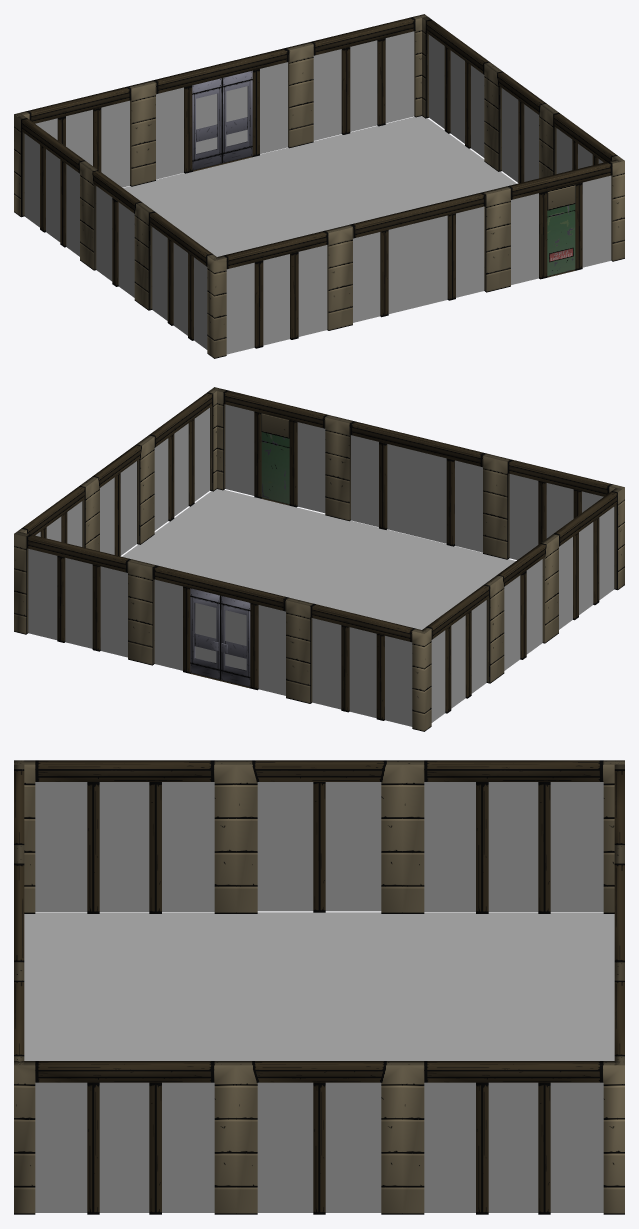
File: mod_building_smallstore01.fbx
3 renders of one model, top to bottom at view 1: azimuth 30°, elevation 25°; view 2: azimuth 150°, elevation 25°; view 3: azimuth 270°, elevation 25°, orthographic. The views are drawn at different scales.
Parts seen in each view (by area): view 1: mod_building_smallstore01, mod_building_smallstore01_floor, mod_building_smallstore01_entrance_r_door, mod_building_smallstore01_entrance_l_door, mod_building_smallstore01_backdoor; view 2: mod_building_smallstore01, mod_building_smallstore01_floor, mod_building_smallstore01_entrance_l_door, mod_building_smallstore01_entrance_r_door, mod_building_smallstore01_backdoor; view 3: mod_building_smallstore01, mod_building_smallstore01_floor.
Boxes of the visible parts, bbox=[...] form: mod_building_smallstore01: bbox=[14, 14, 624, 358]; mod_building_smallstore01_floor: bbox=[123, 116, 516, 256]; mod_building_smallstore01_entrance_r_door: bbox=[192, 78, 222, 170]; mod_building_smallstore01_entrance_l_door: bbox=[222, 70, 252, 162]; mod_building_smallstore01_backdoor: bbox=[547, 204, 575, 275]; mod_building_smallstore01: bbox=[14, 387, 624, 731]; mod_building_smallstore01_floor: bbox=[122, 489, 515, 629]; mod_building_smallstore01_entrance_l_door: bbox=[190, 588, 220, 679]; mod_building_smallstore01_entrance_r_door: bbox=[220, 596, 250, 686]; mod_building_smallstore01_backdoor: bbox=[261, 432, 289, 503]; mod_building_smallstore01: bbox=[14, 760, 624, 1214]; mod_building_smallstore01_floor: bbox=[24, 912, 614, 1060].
Bounding box in the file's own units: 1300 × 296 × 1100.
